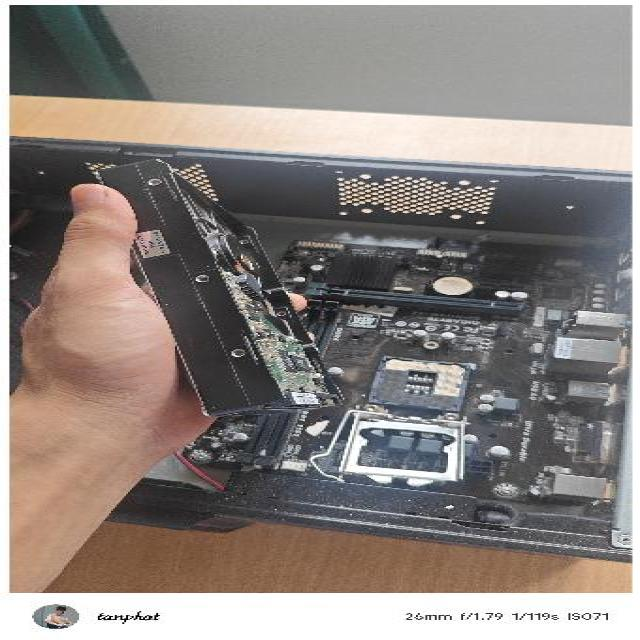DISK: (89, 155, 350, 418)
Mainboard: (239, 208, 625, 532)
